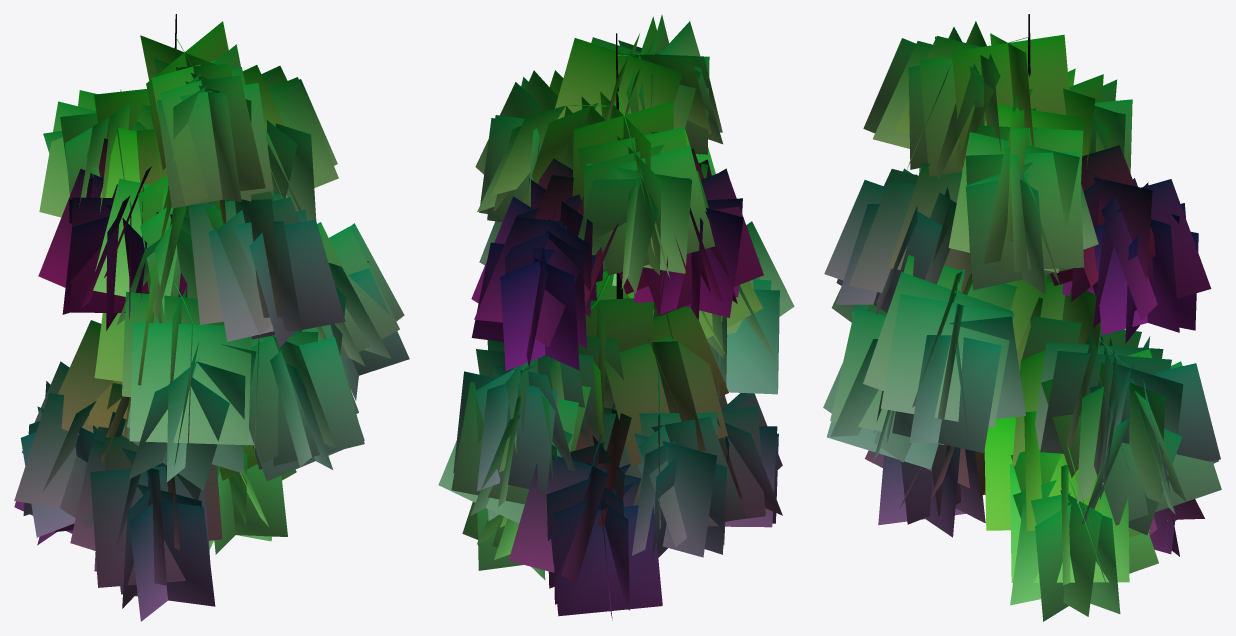
Rendered from M_P13_Tree_2.fbx.
The picture shows the model from 3 angles, left to right: view 1: azimuth 30°, elevation 25°; view 2: azimuth 150°, elevation 25°; view 3: azimuth 270°, elevation 25°; orthographic projection. The views are drawn at different scales.
Parts seen in each view (by area): view 1: Tree_2; view 2: Tree_2; view 3: Tree_2.
Boxes of the visible parts, left/top/right/bottom form: Tree_2: left=14, top=14, right=409, bottom=621; Tree_2: left=438, top=15, right=794, bottom=620; Tree_2: left=823, top=14, right=1221, bottom=621.
Size of the model in its own units: 366 by 602 by 377.
